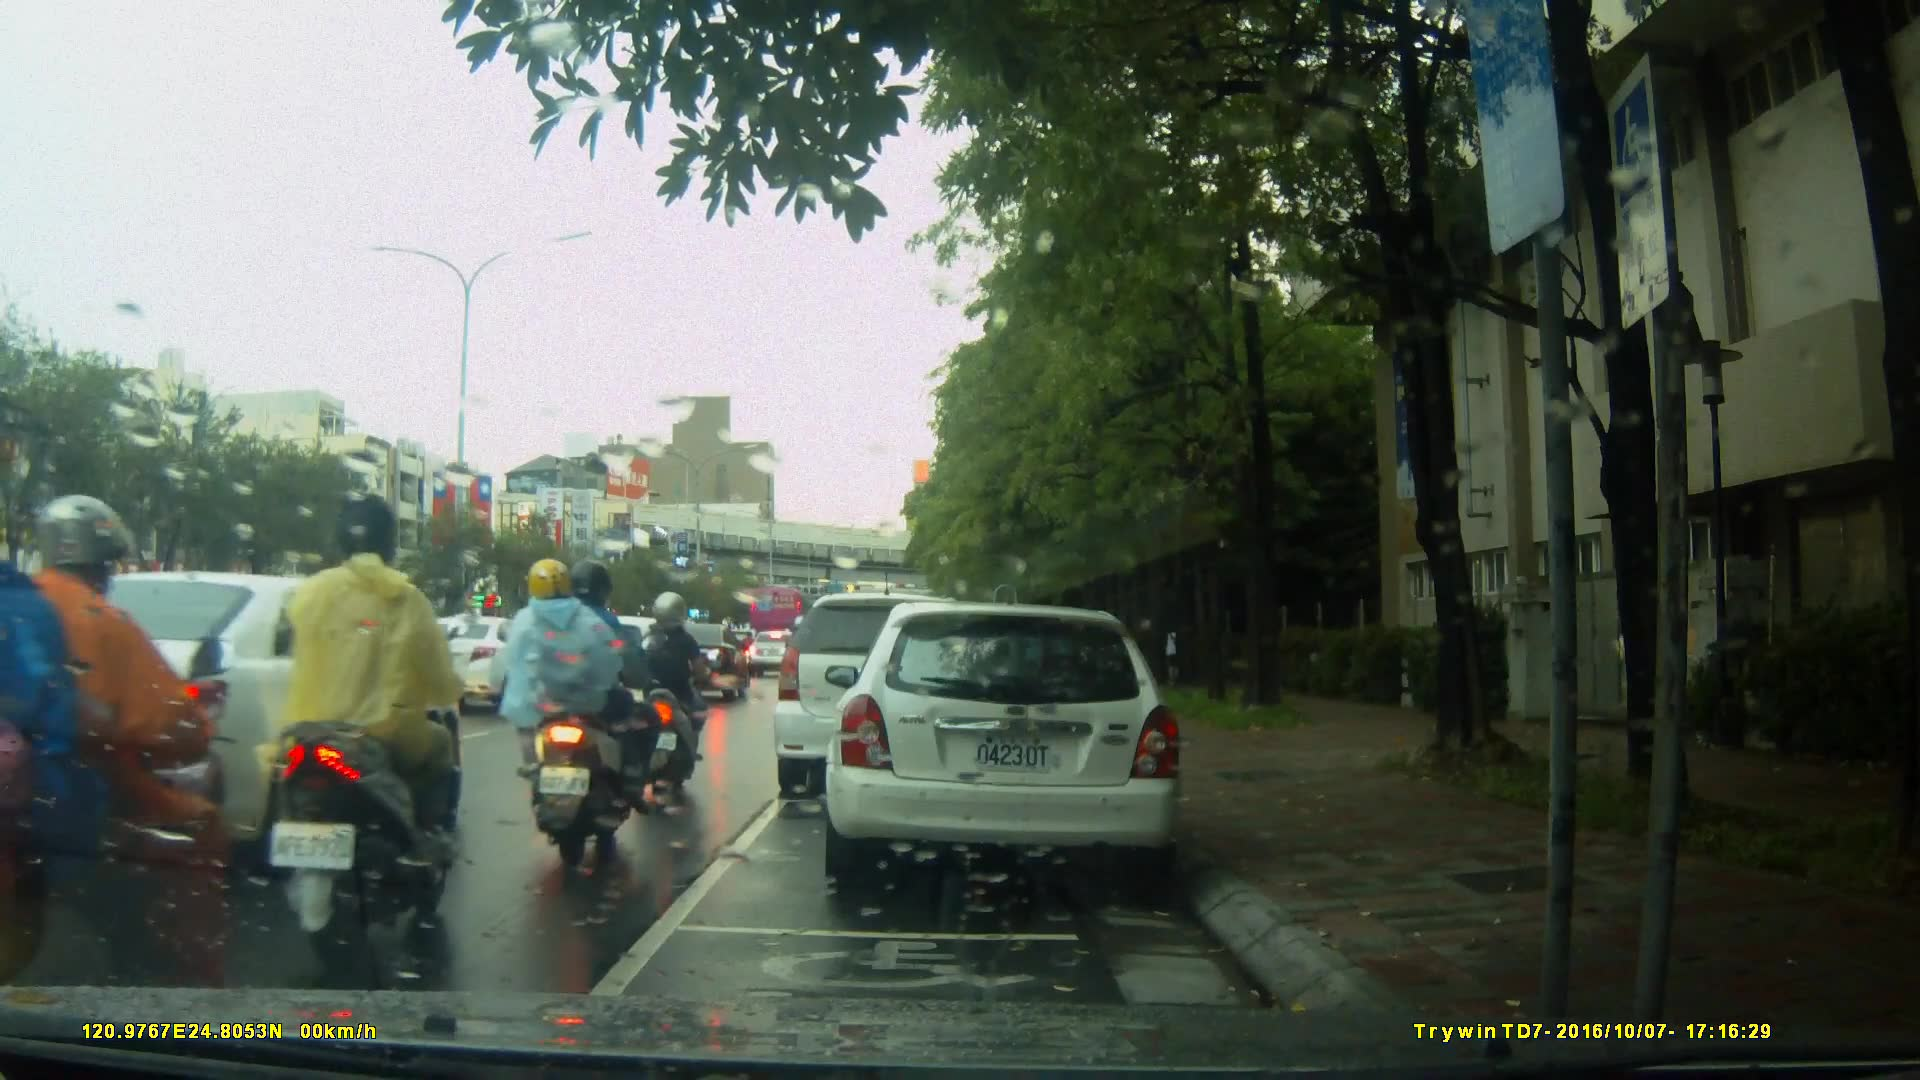rider: (1, 454, 237, 1039), (253, 484, 474, 964), (503, 556, 656, 872), (608, 588, 713, 820)
vehicle: (8, 569, 445, 843), (835, 594, 1194, 898), (776, 590, 1026, 784), (640, 625, 754, 705)
